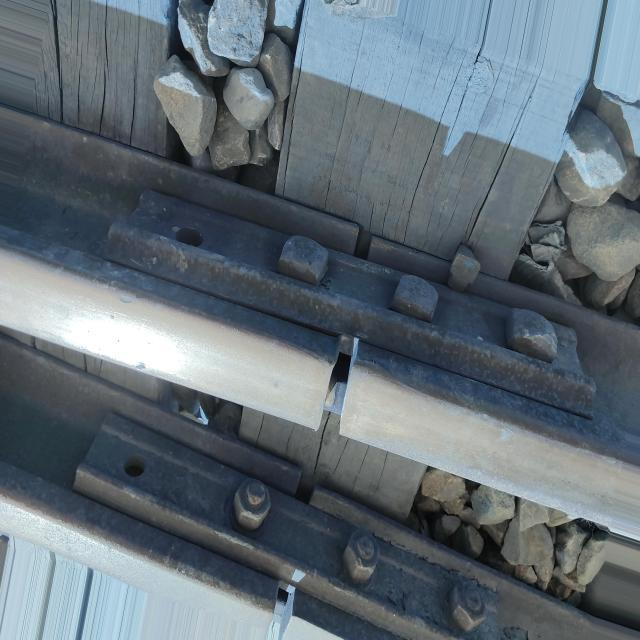Defective Joint: (96, 189, 607, 410), (71, 413, 496, 640)
